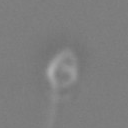normal: (40, 87, 66, 128)
